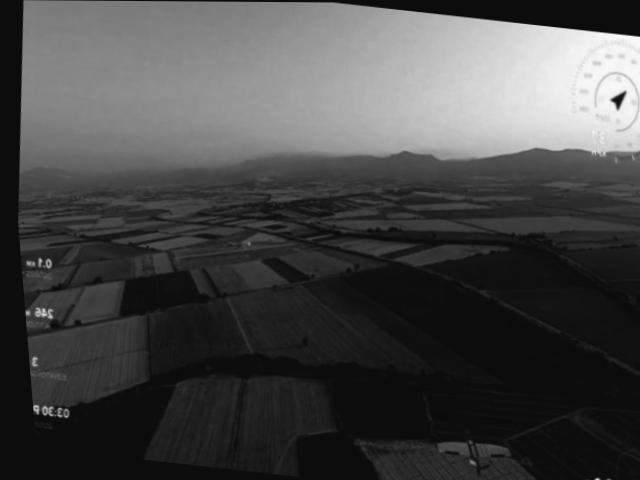hedef: (417, 422, 512, 480)
